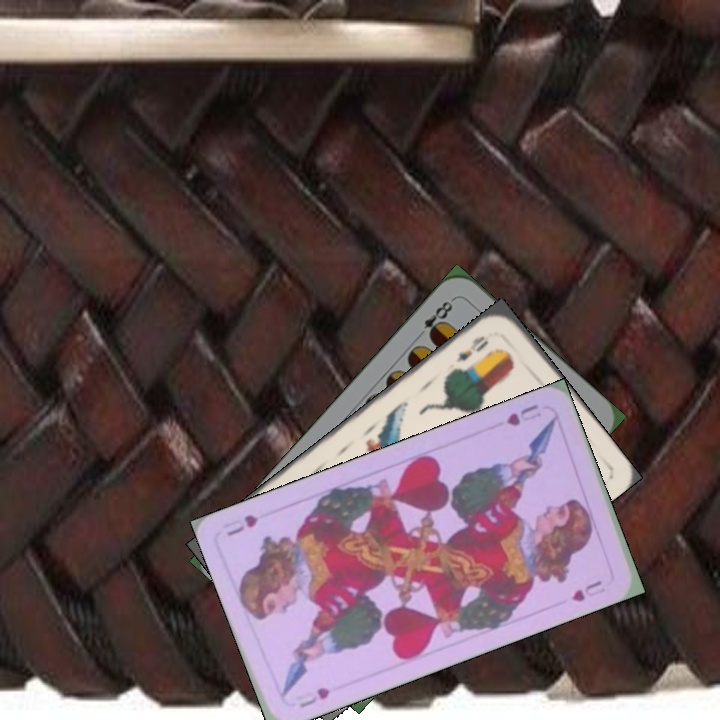E8: (412, 294, 457, 343)
EO: (451, 332, 491, 366)
HU: (502, 400, 544, 429), (295, 683, 332, 711)
